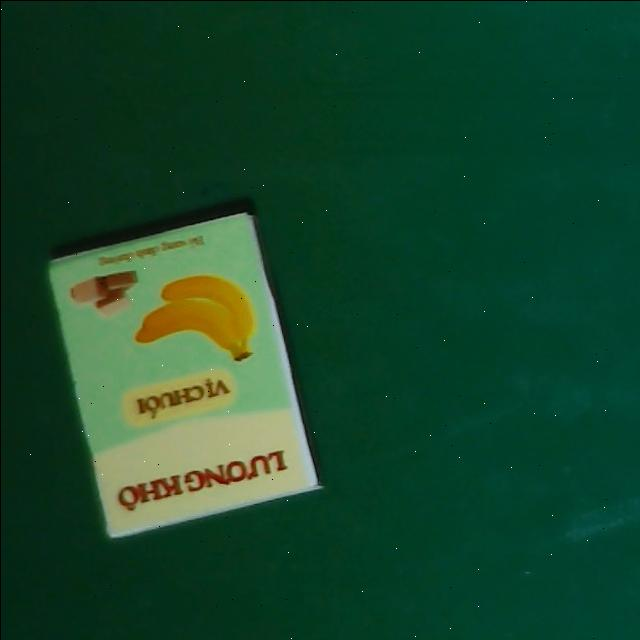chuoi: (40, 210, 319, 540)
